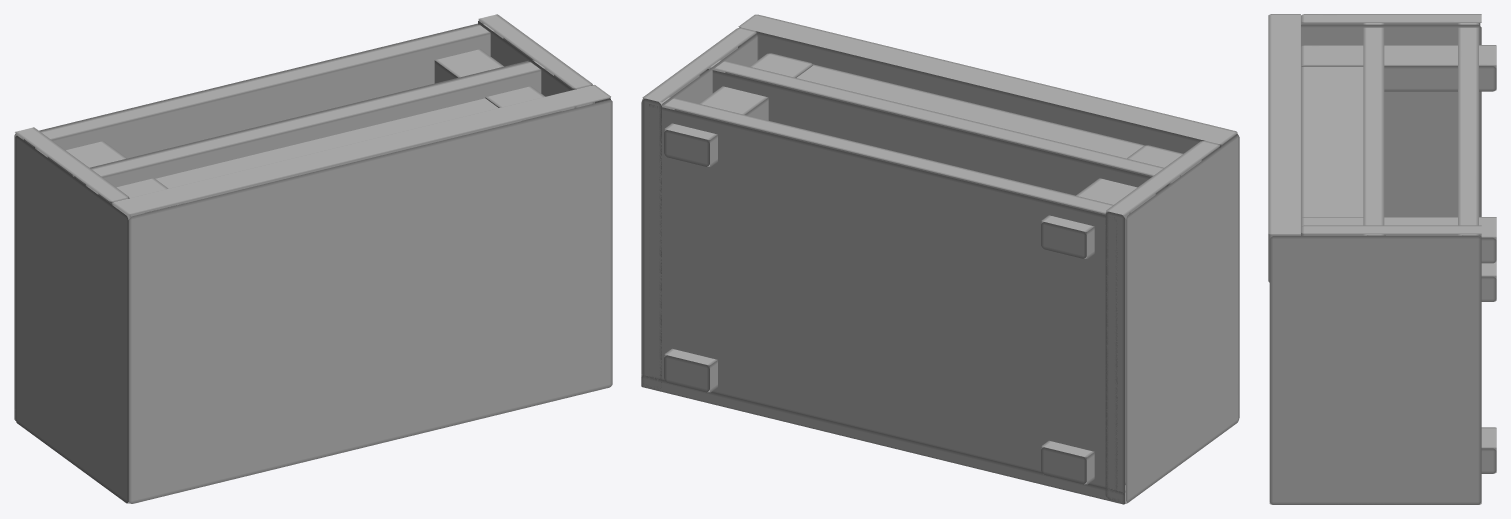
File: pz_table_tables_low_01_brown.obj
3 views of the same model, side by side, from view 1: azimuth 30°, elevation 25°; view 2: azimuth 150°, elevation 25°; view 3: azimuth 270°, elevation 25° (orthographic). The views are drawn at different scales.
Bounding box in the file's own units: 0.875 × 0.5 × 0.3827.
Materials: 1 (1 with a texture image).
